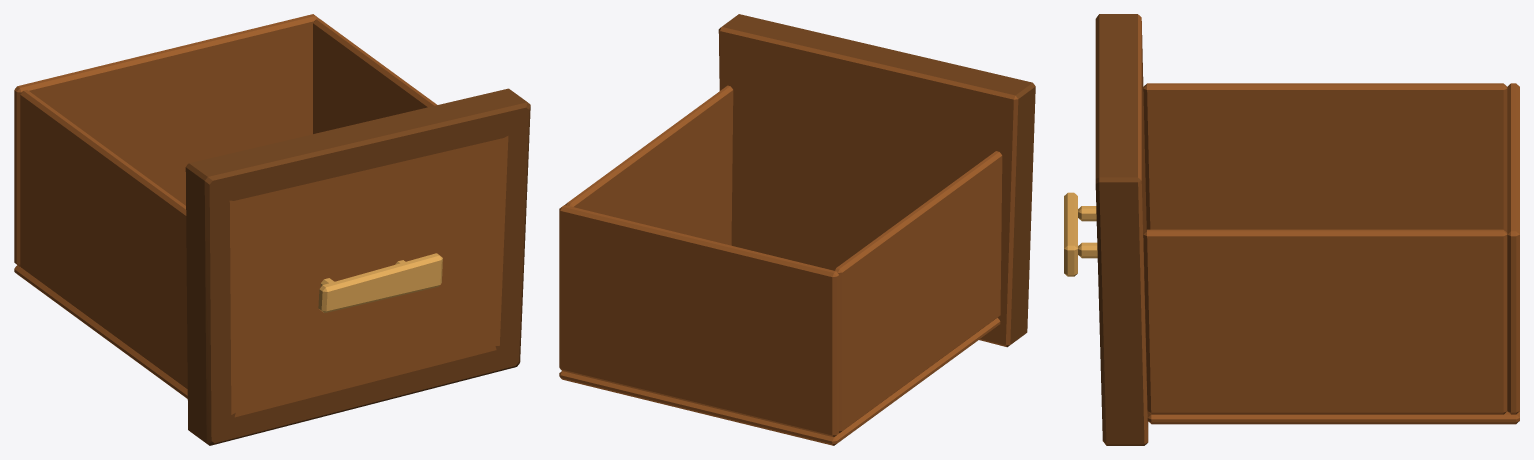
The model's file is File_cabinet_Box_2.fbx.
The picture shows the model from 3 angles, left to right: view 1: azimuth 30°, elevation 25°; view 2: azimuth 150°, elevation 25°; view 3: azimuth 270°, elevation 25°; orthographic projection. The views are drawn at different scales.
Parts seen in each view (by area): view 1: File_cabinet_Box_2; view 2: File_cabinet_Box_2; view 3: File_cabinet_Box_2.
Boxes of the visible parts, x1=… form: File_cabinet_Box_2: x1=14, y1=14, x2=530, y2=445; File_cabinet_Box_2: x1=559, y1=14, x2=1035, y2=445; File_cabinet_Box_2: x1=1064, y1=14, x2=1519, y2=445.
Bounding box in the file's own units: 0.4437 × 0.3553 × 0.5242.
